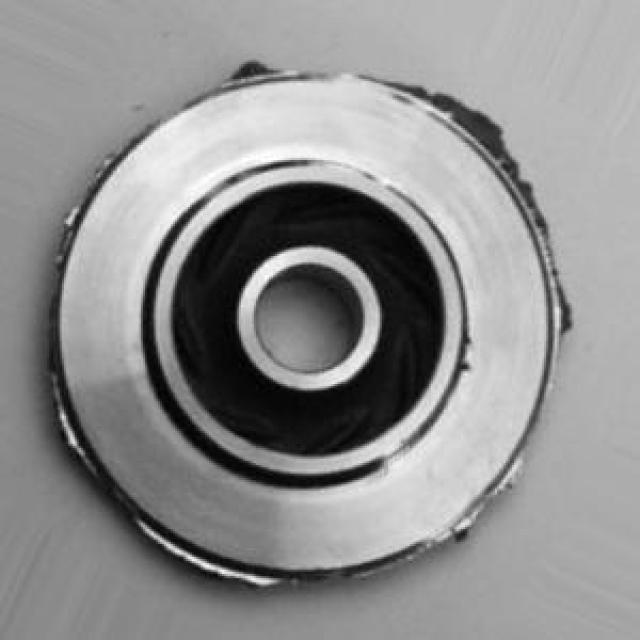Defect: (407, 80, 537, 211)
